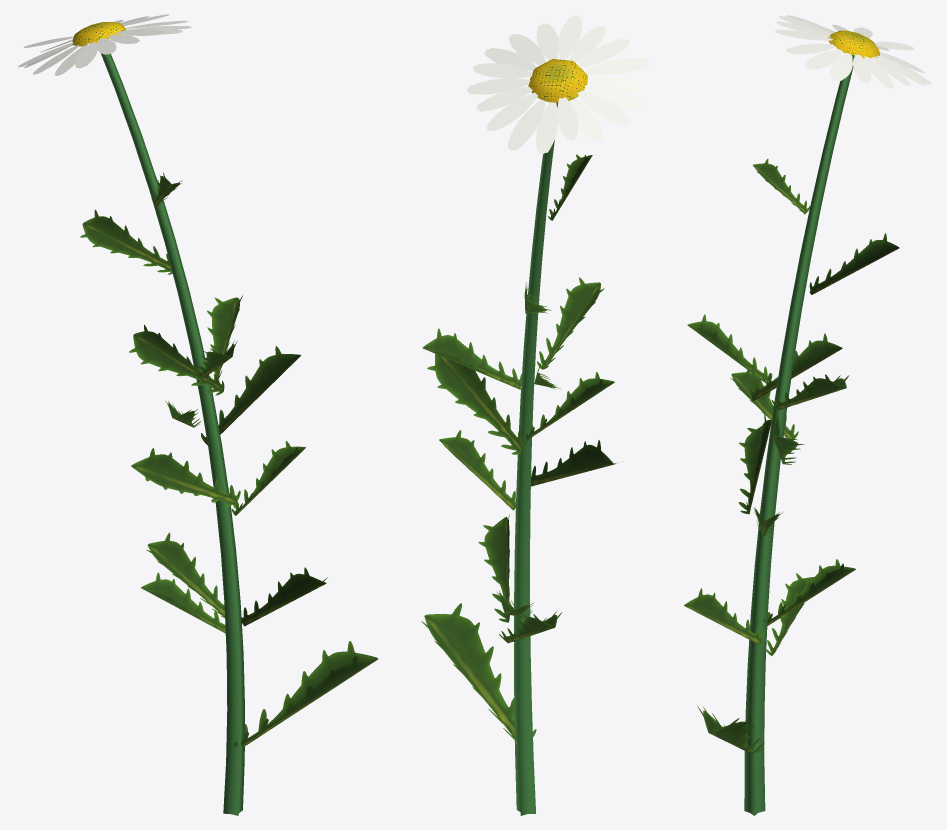
File: Daisy.fbx
The picture shows the model from 3 angles, left to right: view 1: azimuth 30°, elevation 25°; view 2: azimuth 150°, elevation 25°; view 3: azimuth 270°, elevation 25°; orthographic projection. The views are drawn at different scales.
Visible parts, largest first — view 1: Daisy; view 2: Daisy; view 3: Daisy.
Boxes of the visible parts, box(x1,y1,x2,y2) form: Daisy: box(18, 14, 378, 815); Daisy: box(421, 15, 650, 815); Daisy: box(684, 15, 931, 815).
Bounding box in the file's own units: 97.4 × 259 × 78.03.
